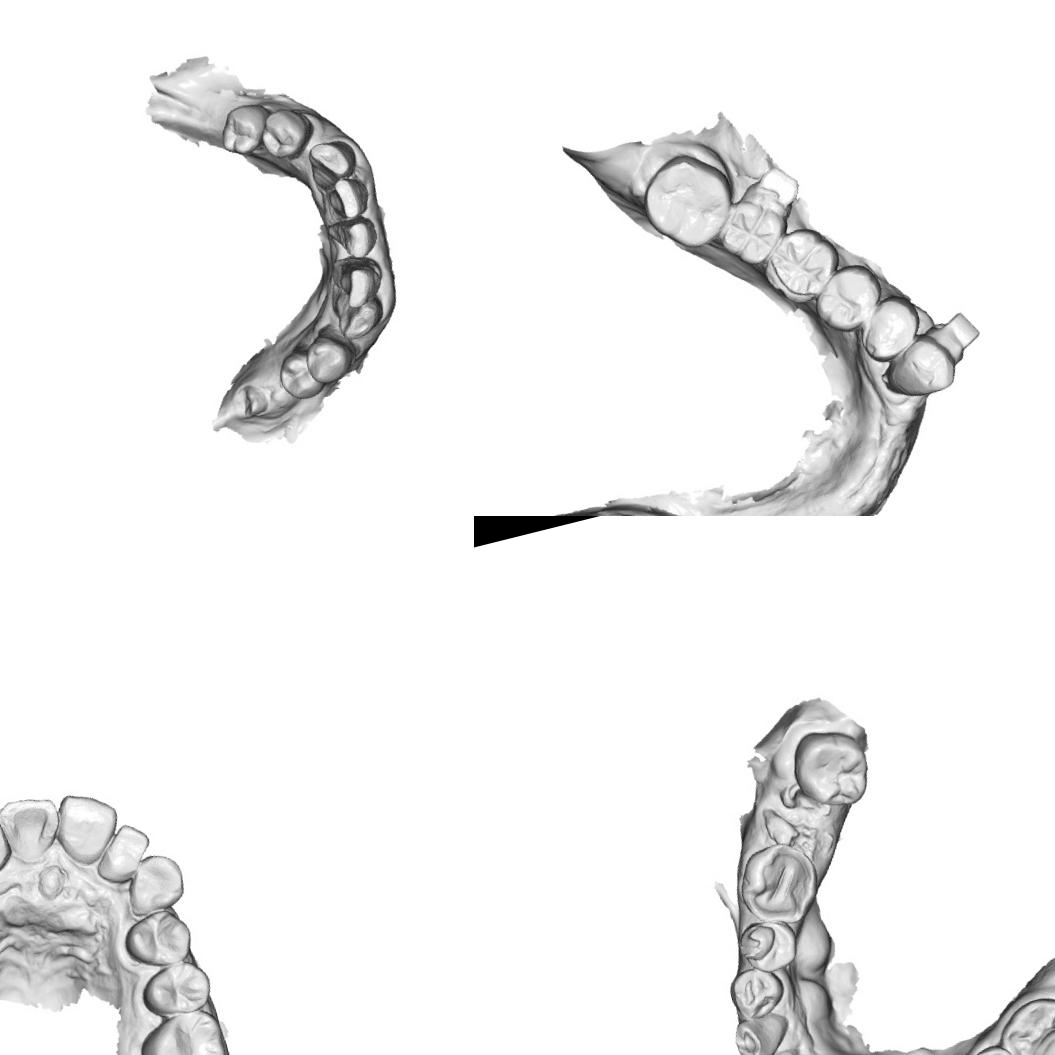canine: (876, 328, 960, 405), (118, 848, 190, 920), (327, 280, 388, 342), (728, 1006, 797, 1055), (303, 134, 362, 191)
incisor: (46, 782, 127, 871), (0, 789, 67, 866), (86, 818, 158, 888), (328, 250, 390, 312), (313, 170, 375, 227), (323, 211, 386, 265), (0, 809, 16, 880)
molar: (636, 145, 740, 257), (781, 715, 885, 818), (729, 836, 826, 934), (753, 218, 848, 308), (708, 192, 792, 274), (131, 1003, 233, 1055), (990, 988, 1055, 1055)
premolar: (806, 258, 888, 338), (850, 289, 932, 365), (117, 904, 198, 974), (134, 954, 216, 1022), (732, 910, 807, 980), (212, 97, 280, 162), (724, 960, 790, 1024), (254, 100, 320, 162), (298, 326, 358, 388), (272, 343, 326, 405), (962, 1039, 1025, 1055)
